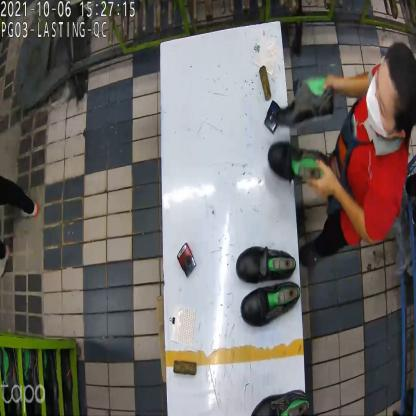shoes: (266, 87, 338, 178), (235, 242, 302, 324)
stamp: (175, 246, 198, 277), (264, 102, 280, 136)
